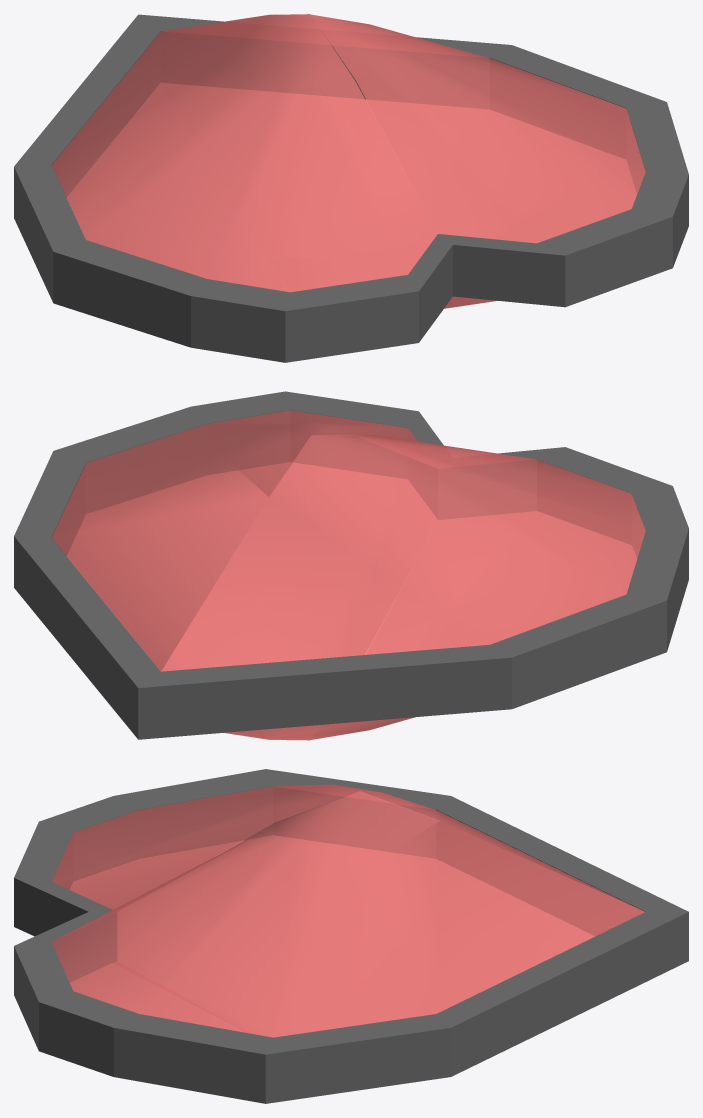
The picture shows the model from 3 angles, top to bottom: view 1: azimuth 30°, elevation 25°; view 2: azimuth 150°, elevation 25°; view 3: azimuth 270°, elevation 25°; orthographic projection. The views are drawn at different scales.
Parts seen in each view (by area): view 1: Line003_inst_2, Line001, Line003; view 2: Line003_inst_2, Line001, Line003; view 3: Line003_inst_2, Line001, Line003.
Part boxes in pixels (left/top/right/bottom): Line003_inst_2: left=51, top=14, right=645, bottom=292; Line001: left=14, top=14, right=688, bottom=362; Line003: left=67, top=83, right=636, bottom=308; Line003_inst_2: left=52, top=410, right=645, bottom=671; Line001: left=14, top=391, right=688, bottom=739; Line003: left=67, top=462, right=635, bottom=740; Line003_inst_2: left=51, top=784, right=644, bottom=1037; Line001: left=14, top=769, right=688, bottom=1103; Line003: left=70, top=836, right=593, bottom=1036.
Bounding box in the file's own units: 41.73 × 19.8 × 41.68.
